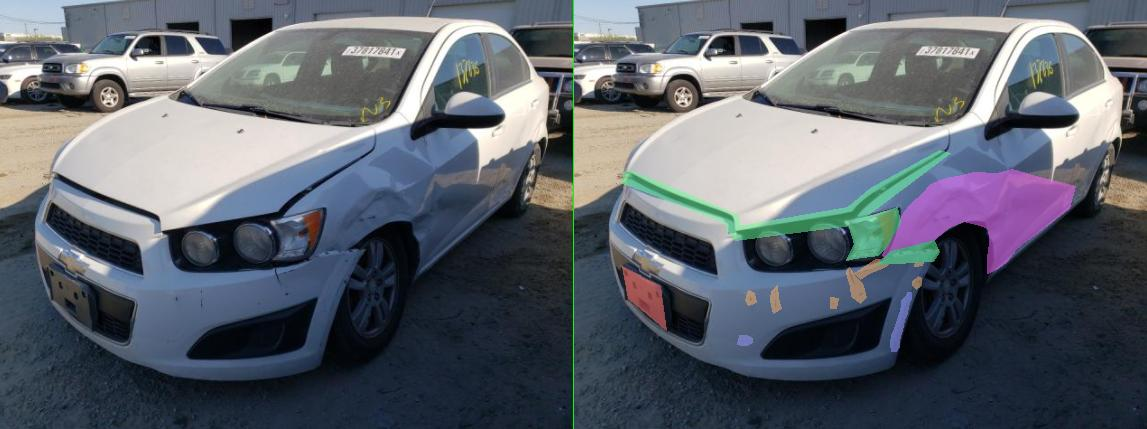Broken part: (96, 150, 753, 240), (544, 207, 653, 260), (607, 240, 731, 264)
Dent: (617, 169, 1003, 273)
Missing part: (96, 266, 184, 330)
Paint chip: (697, 188, 795, 224), (560, 258, 643, 279), (544, 267, 585, 303), (707, 213, 759, 225), (392, 285, 414, 313), (687, 247, 729, 257), (342, 290, 364, 305), (637, 250, 667, 258), (669, 247, 693, 257), (677, 276, 695, 289), (681, 257, 701, 266), (512, 297, 528, 308)
Scratch: (633, 292, 675, 351), (326, 335, 356, 345)
